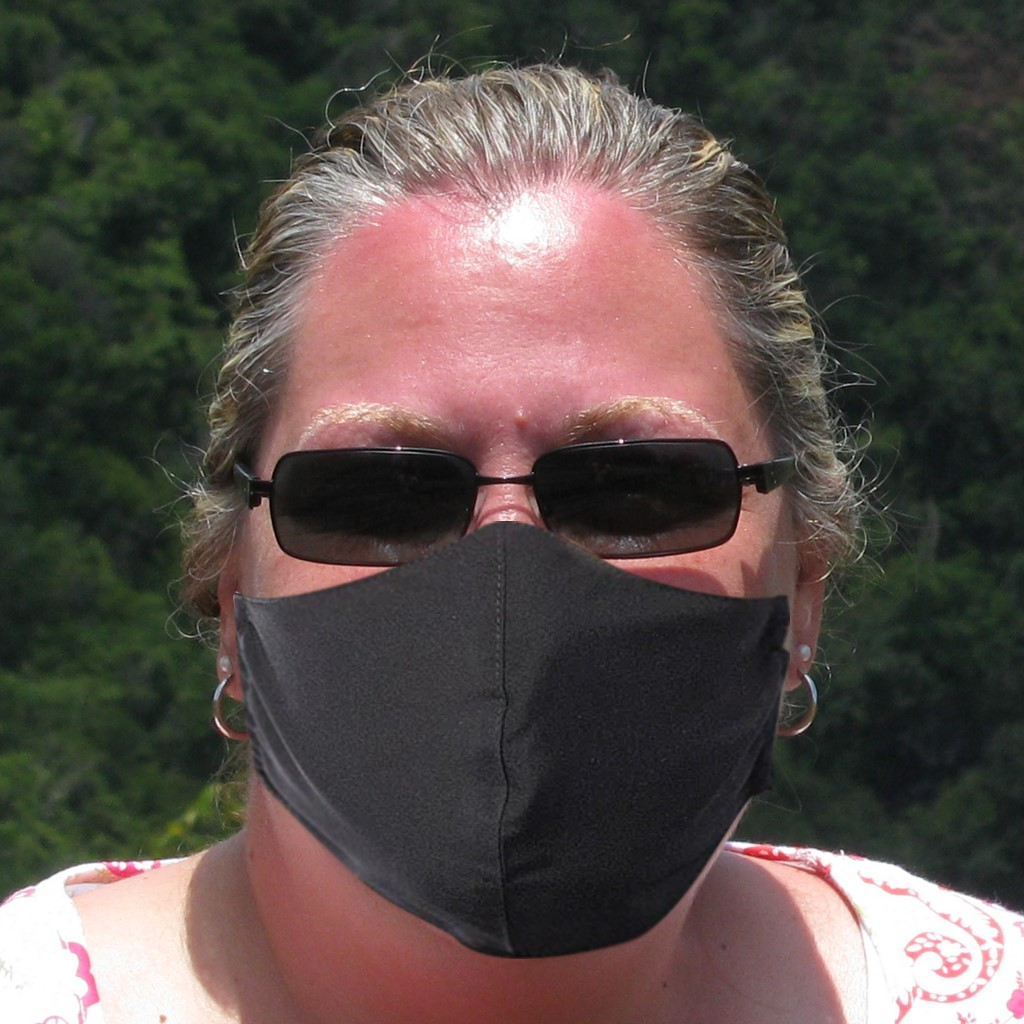con_mascara: (246, 176, 787, 951)
